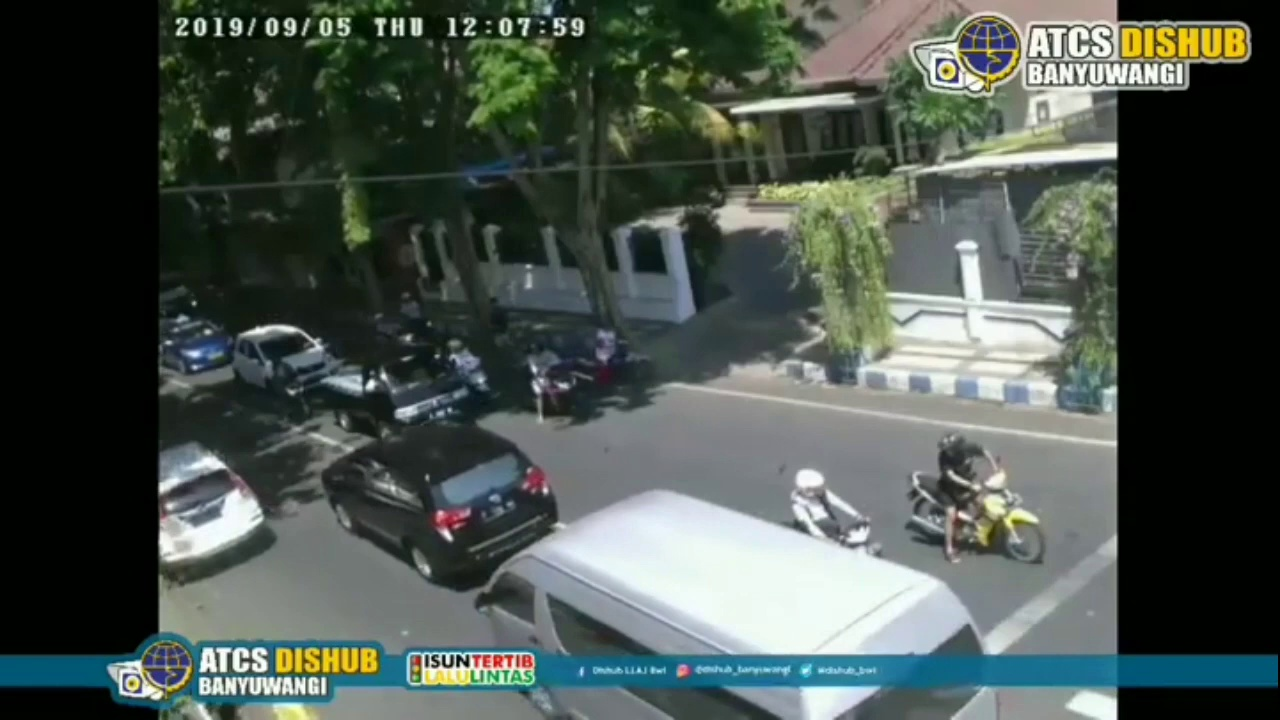car: (481, 493, 1003, 720), (323, 417, 553, 584), (158, 444, 269, 584), (323, 343, 472, 435), (233, 321, 329, 390), (158, 316, 240, 380)
motorbike: (909, 432, 1041, 567), (780, 465, 884, 564), (506, 339, 577, 424), (572, 327, 654, 391), (445, 336, 491, 402), (269, 359, 310, 417)
